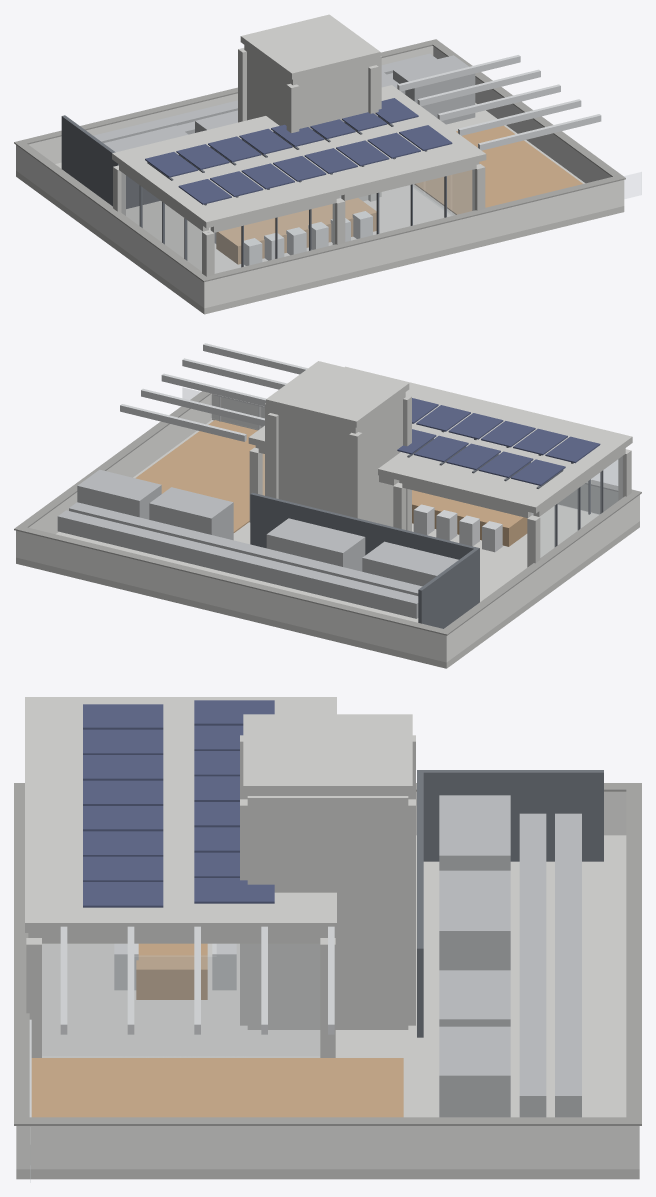
Rendered from newton-from-floor-6.glb.
3 views of the same model, one above another, from view 1: azimuth 30°, elevation 25°; view 2: azimuth 150°, elevation 25°; view 3: azimuth 270°, elevation 25° (orthographic). The views are drawn at different scales.
Parts seen in each view (by area): view 1: IFC IfcSlab 7173, IFC IfcWall 18209, IFC IfcSlab 7097, IFC IfcCovering 43161, IFC IfcSlab 7268, IFC IfcWall 18247, IFC IfcWall 7249, IFC IfcFurnishingElement 42914, IFC IfcWall 44168, IFC IfcFlowTerminal 44111, IFC IfcCovering 18285, IFC IfcWall 18266 (+61 smaller); view 2: IFC IfcWall 18228, IFC IfcSlab 7173, IFC IfcFlowSegment 44149, IFC IfcWall 7230, IFC IfcCovering 43161, IFC IfcSlab 7268, IFC IfcWall 18247, IFC IfcSlab 7116, IFC IfcWall 44187, IFC IfcFlowSegment 44130, IFC IfcWall 7192, IFC IfcEnergyConversionDevice 44073 (+45 smaller); view 3: IFC IfcWall 7211, IFC IfcSlab 7173, IFC IfcWall 18266, IFC IfcSlab 7116, IFC IfcCovering 43161, IFC IfcSlab 7097, IFC IfcSlab 7268, IFC IfcWall 42895, IFC IfcWall 44168, IFC IfcWall 42876, IFC IfcFlowSegment 44130, IFC IfcFlowSegment 44149 (+40 smaller).
Boxes of the visible parts, box(x1,y1,x2,y2) form: IFC IfcSlab 7173: box(112, 85, 486, 228); IFC IfcWall 18209: box(201, 180, 624, 308); IFC IfcSlab 7097: box(134, 156, 624, 314); IFC IfcCovering 43161: box(414, 125, 582, 214); IFC IfcSlab 7268: box(240, 14, 380, 79); IFC IfcWall 18247: box(19, 147, 200, 305); IFC IfcWall 7249: box(290, 56, 381, 201); IFC IfcFurnishingElement 42914: box(216, 198, 376, 264); IFC IfcWall 44168: box(61, 115, 118, 206); IFC IfcFlowTerminal 44111: box(393, 55, 475, 124); IFC IfcCovering 18285: box(199, 174, 625, 282); IFC IfcWall 18266: box(433, 46, 611, 183); IFC IfcWall 18228: box(16, 530, 449, 662); IFC IfcSlab 7173: box(248, 366, 632, 513); IFC IfcFlowSegment 44149: box(57, 510, 418, 618); IFC IfcWall 7230: box(265, 403, 356, 515); IFC IfcCovering 43161: box(135, 420, 264, 532); IFC IfcSlab 7268: box(266, 361, 409, 427); IFC IfcWall 18247: box(450, 497, 636, 659); IFC IfcSlab 7116: box(16, 531, 518, 668); IFC IfcWall 44187: box(250, 492, 479, 603); IFC IfcFlowSegment 44130: box(69, 502, 422, 595); IFC IfcWall 7192: box(351, 392, 405, 526); IFC IfcEnergyConversionDevice 44073: box(266, 518, 365, 571); IFC IfcWall 7211: box(247, 796, 408, 1029); IFC IfcSlab 7173: box(25, 697, 336, 932); IFC IfcWall 18266: box(27, 1126, 628, 1169); IFC IfcSlab 7116: box(408, 835, 639, 1179); IFC IfcCovering 43161: box(31, 1058, 403, 1117); IFC IfcSlab 7097: box(16, 943, 247, 1179); IFC IfcSlab 7268: box(243, 714, 412, 795); IFC IfcWall 42895: box(217, 944, 319, 1057); IFC IfcWall 44168: box(417, 770, 603, 861); IFC IfcWall 42876: box(42, 944, 127, 1057); IFC IfcFlowSegment 44130: box(519, 813, 546, 1117); IFC IfcFlowSegment 44149: box(555, 813, 581, 1117).
Bounding box in the file's own units: 18.99 × 6.25 × 14.1.
